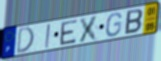B: (123, 8, 144, 36)
D: (15, 26, 36, 56)
E: (60, 18, 79, 46)
G: (105, 12, 123, 38)
I: (44, 22, 52, 50)
X: (77, 14, 100, 44)
